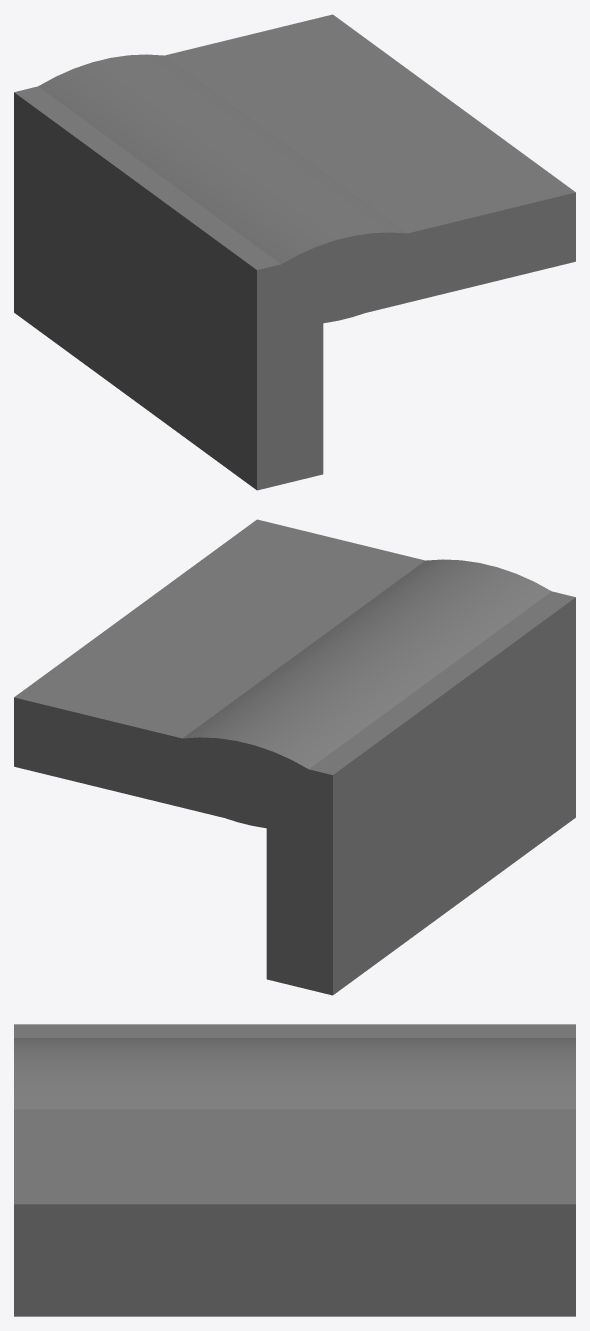
3 views of the same model, one above another, from view 1: azimuth 30°, elevation 25°; view 2: azimuth 150°, elevation 25°; view 3: azimuth 270°, elevation 25° (orthographic). The views are drawn at different scales.
Visible parts, largest first — view 1: mesh_id4, mesh_id5; view 2: mesh_id4, mesh_id5; view 3: mesh_id4, mesh_id5.
Boxes of the visible parts, x1=… form: mesh_id4: x1=14, y1=14, x2=575, y2=490; mesh_id5: x1=38, y1=54, x2=407, y2=323; mesh_id4: x1=14, y1=519, x2=575, y2=995; mesh_id5: x1=182, y1=559, x2=551, y2=828; mesh_id4: x1=14, y1=1024, x2=575, y2=1316; mesh_id5: x1=14, y1=1038, x2=575, y2=1109.
Bounding box in the file's own units: 0.512 × 0.3546 × 0.6761.
2 materials, 2 textured.
